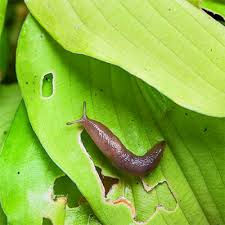slug: (67, 99, 165, 174)
